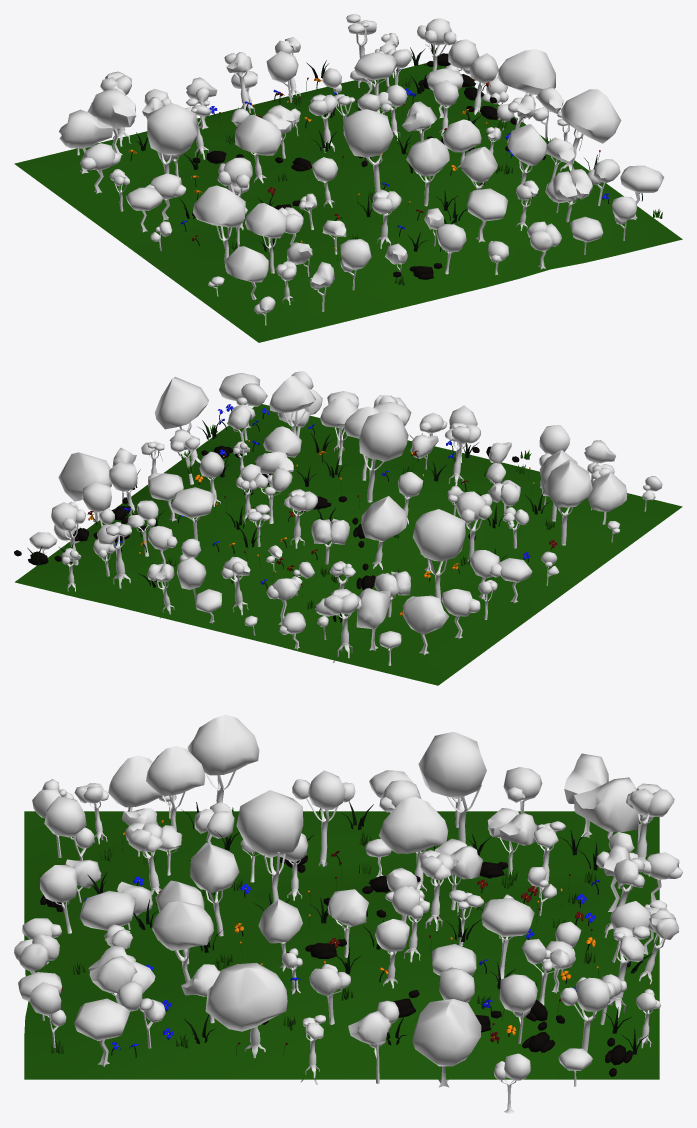
The model's file is Forest2.fbx.
3 views of the same model, one above another, from view 1: azimuth 30°, elevation 25°; view 2: azimuth 150°, elevation 25°; view 3: azimuth 270°, elevation 25° (orthographic). The views are drawn at different scales.
Parts seen in each view (by area): view 1: Mountain006, Tree238, Tree9_088, Tree9_086, Tree240, Tree2_125, Tree225, Tree249, Tree248, Tree2_128, Tree2_127, Tree2_130 (+41 smaller); view 2: Mountain006, Tree9_088, Tree9_086, Tree238, Tree2_125, Tree225, Tree240, Tree248, Tree2_130, Tree233, Tree249, Tree252 (+39 smaller); view 3: Mountain006, Tree238, Tree9_088, Tree9_086, Tree240, Tree2_125, Tree225, Tree2_130, Tree249, Tree2_127, Tree2_128, Tree9_084 (+52 smaller).
Boxes of the visible parts, x1,y1,x2,y2 form: Mountain006: (14, 63, 682, 342); Tree238: (560, 89, 621, 170); Tree9_088: (147, 103, 197, 173); Tree9_086: (343, 109, 393, 192); Tree240: (497, 49, 555, 123); Tree2_125: (193, 185, 245, 271); Tree225: (235, 114, 281, 183); Tree249: (87, 88, 136, 155); Tree248: (59, 109, 112, 173); Tree2_128: (406, 138, 449, 206); Tree2_127: (245, 203, 287, 273); Tree2_130: (507, 124, 547, 199); Mountain006: (15, 404, 682, 685); Tree9_088: (412, 509, 465, 601); Tree9_086: (359, 411, 408, 502); Tree238: (154, 377, 208, 466); Tree2_125: (545, 459, 592, 545); Tree225: (361, 496, 407, 569); Tree240: (58, 452, 111, 523); Tree248: (402, 595, 449, 655); Tree2_130: (269, 375, 315, 434); Tree233: (587, 471, 627, 524); Tree249: (356, 588, 390, 650); Tree252: (171, 487, 214, 540); Mountain006: (24, 811, 659, 1079); Tree238: (205, 963, 287, 1058); Tree9_088: (418, 732, 486, 843); Tree9_086: (236, 790, 303, 902); Tree240: (412, 999, 481, 1087); Tree2_125: (187, 714, 259, 802); Tree225: (378, 797, 448, 891); Tree2_130: (152, 901, 213, 982); Tree249: (574, 777, 640, 854); Tree2_127: (146, 745, 205, 831); Tree2_128: (190, 842, 239, 936); Tree9_084: (292, 770, 355, 866).
Bounding box in the file's own units: 1001 × 292 × 976.
